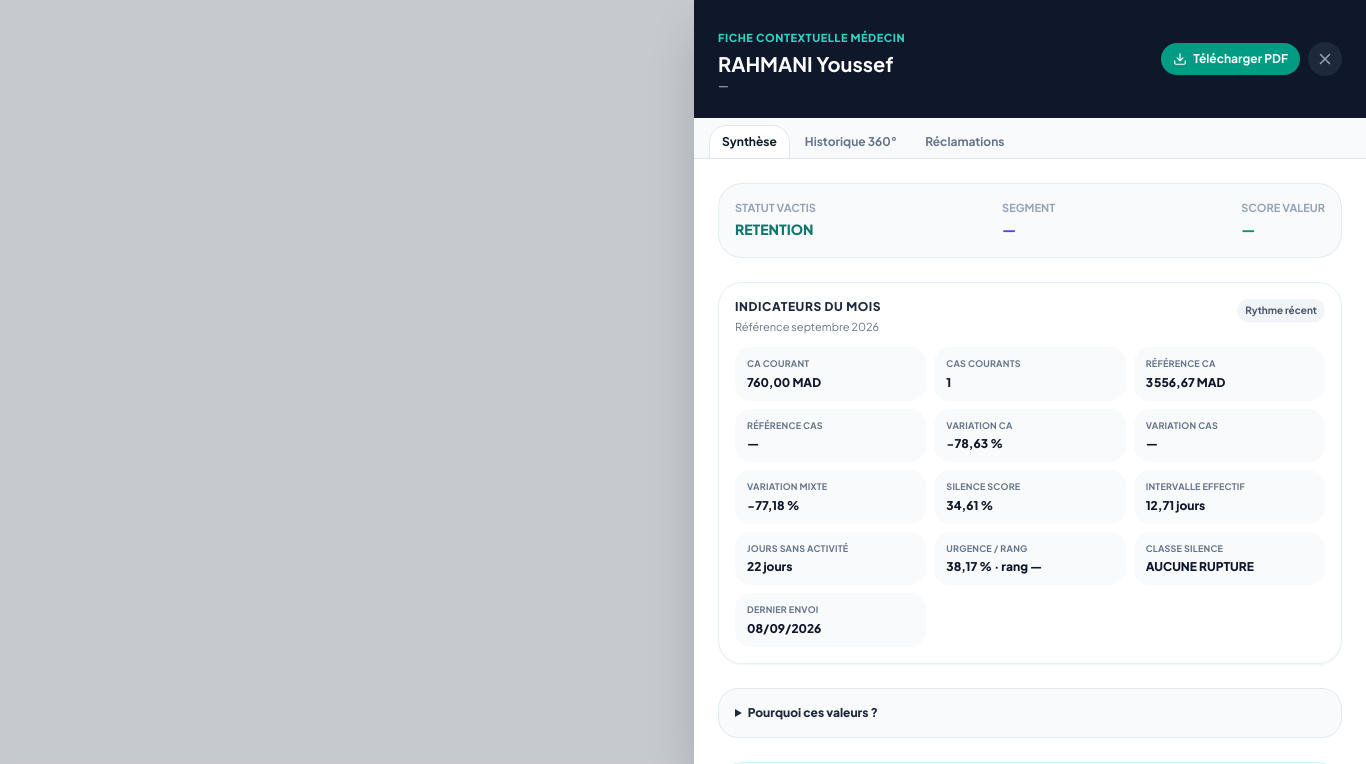
it: FicheContextuelleDrawer indicators › shows numeric why-values for the September reference example
What coordinates should you click on to do the following:
click the heading "Pourquoi ces valeurs ?"
I would click on:
 (813, 712)
Its box is [748,704,878,720].
(page scrolled)
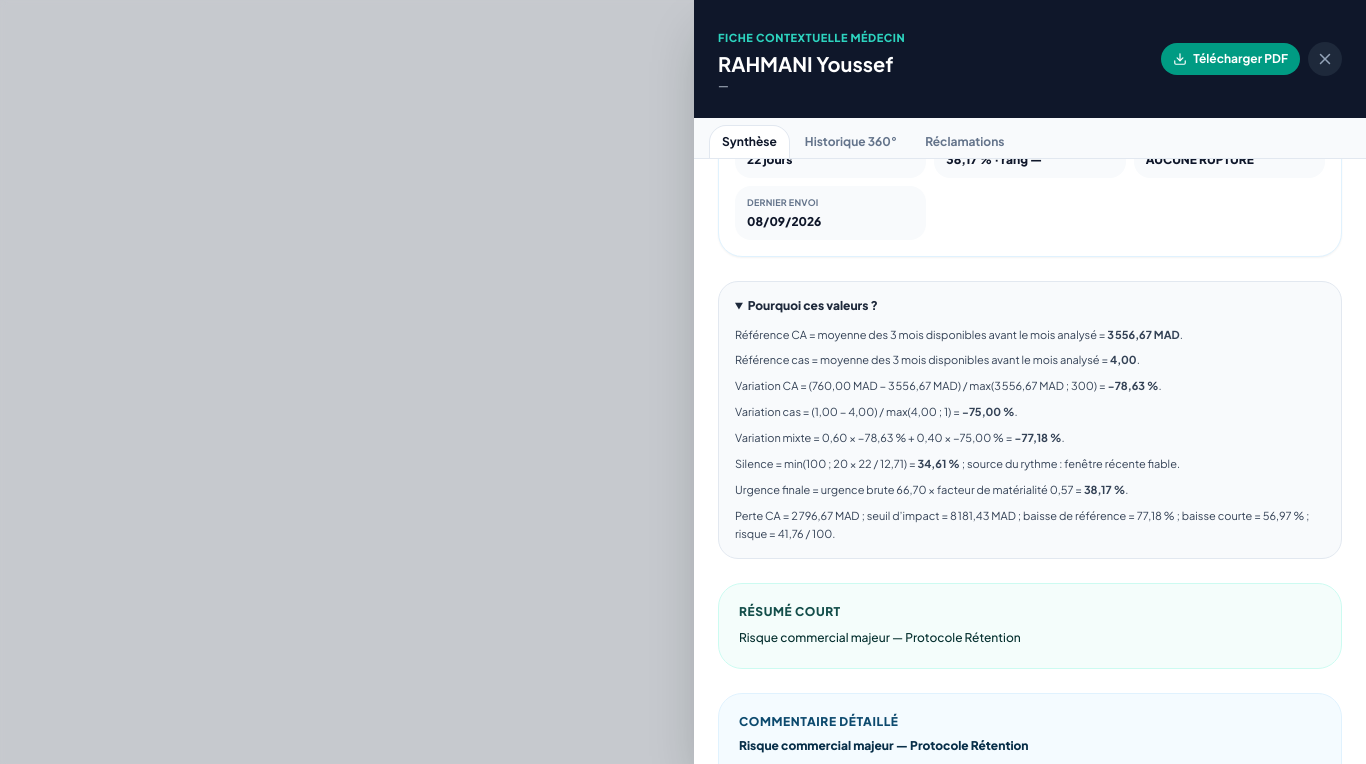
expect the text "Référence CA = moyenne des 3 mois disponibles" is shown: met, box [735,328,1183,340]
expect the text "Variation CA =" is shown: met, box [735,379,812,392]
expect the text "Silence = min(100" is shown: met, box [735,457,858,470]
